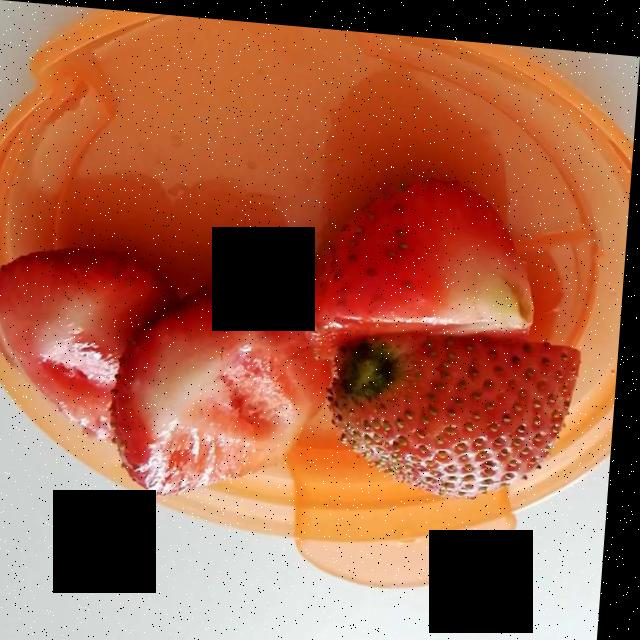strawberries: (1, 165, 597, 480)
